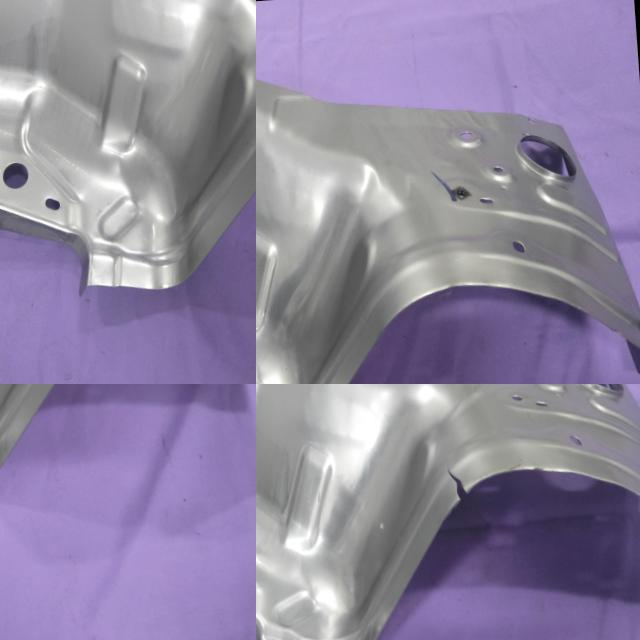Defect: (428, 460, 478, 510)
Healthy: (256, 29, 640, 384), (0, 0, 256, 310), (0, 384, 256, 503)
